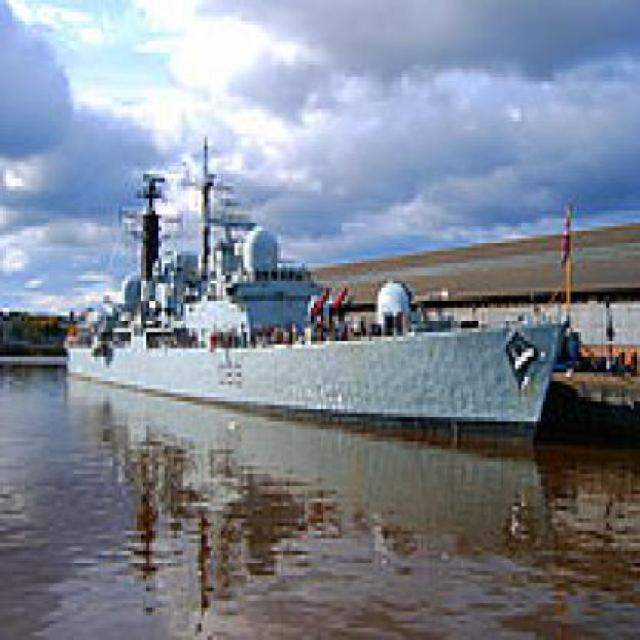warship2: (50, 106, 559, 439)
